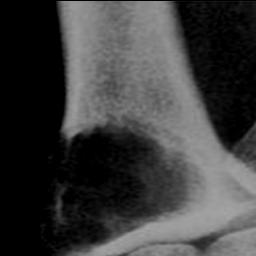cancer: (28, 119, 186, 256)
